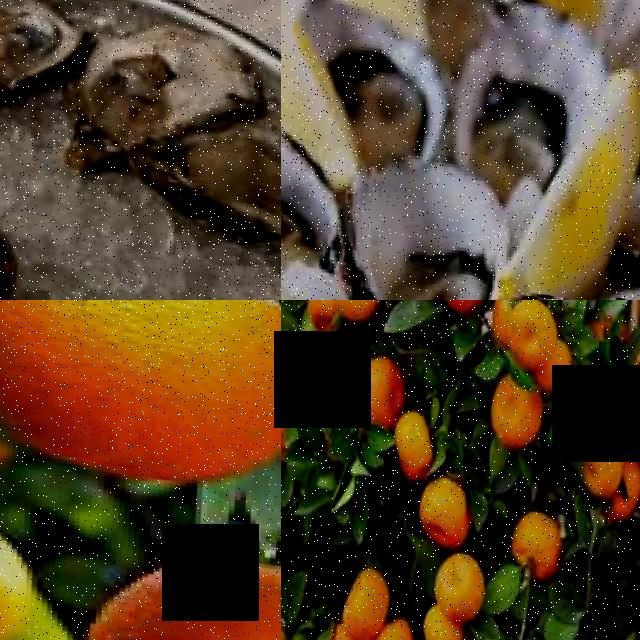orange: (0, 300, 281, 494), (72, 531, 281, 640), (330, 559, 389, 640), (481, 373, 543, 448), (497, 300, 559, 373), (410, 472, 468, 548), (427, 547, 485, 617), (507, 500, 561, 569), (352, 351, 401, 424), (577, 421, 621, 495), (324, 300, 381, 323), (627, 332, 640, 395)
oysters: (441, 0, 590, 188), (345, 145, 513, 300), (47, 0, 198, 171), (129, 88, 281, 240), (326, 0, 460, 170), (0, 0, 82, 113), (281, 104, 336, 244)
